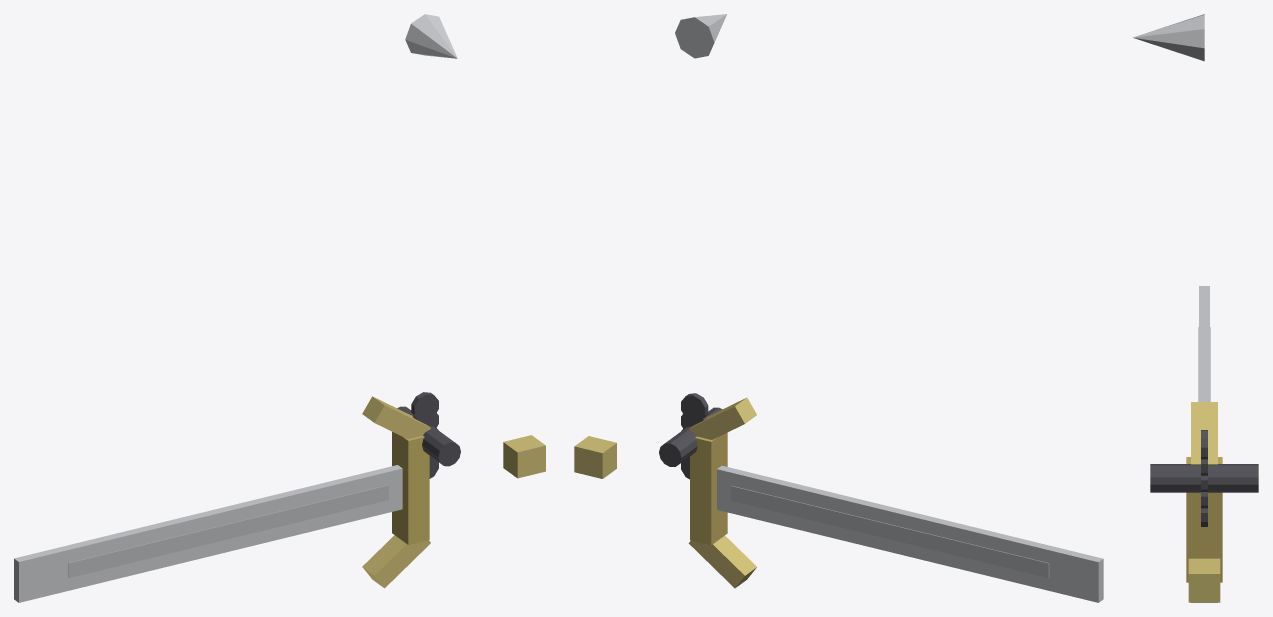
Rendered from gumus_kilic.glb.
3 renders of one model, left to right at view 1: azimuth 30°, elevation 25°; view 2: azimuth 150°, elevation 25°; view 3: azimuth 270°, elevation 25°, orthographic. The views are drawn at different scales.
Parts seen in each view (by area): view 1: geometry_0; view 2: geometry_0; view 3: geometry_0.
Boxes of the visible parts, box(x1,y1,x2,y2) form: geometry_0: box(14, 14, 545, 602); geometry_0: box(574, 14, 1103, 602); geometry_0: box(1133, 14, 1258, 602).
Bounding box in the file's own units: 0.735 × 0.7512 × 0.14.
